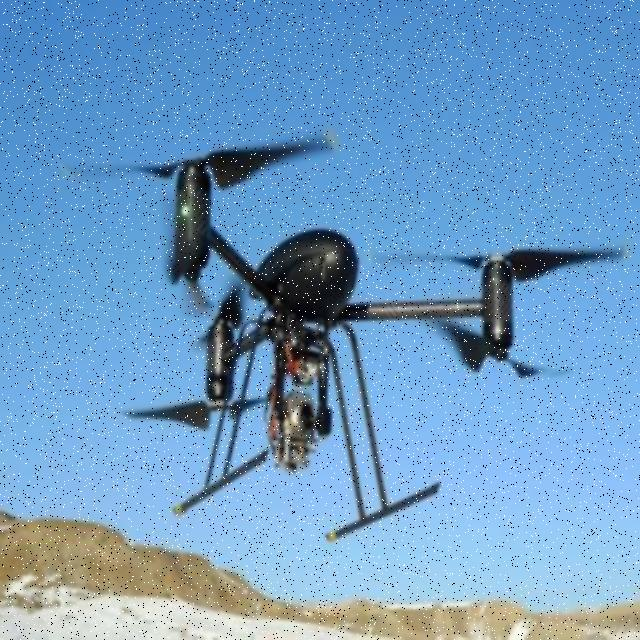UAV: (124, 133, 521, 545)
